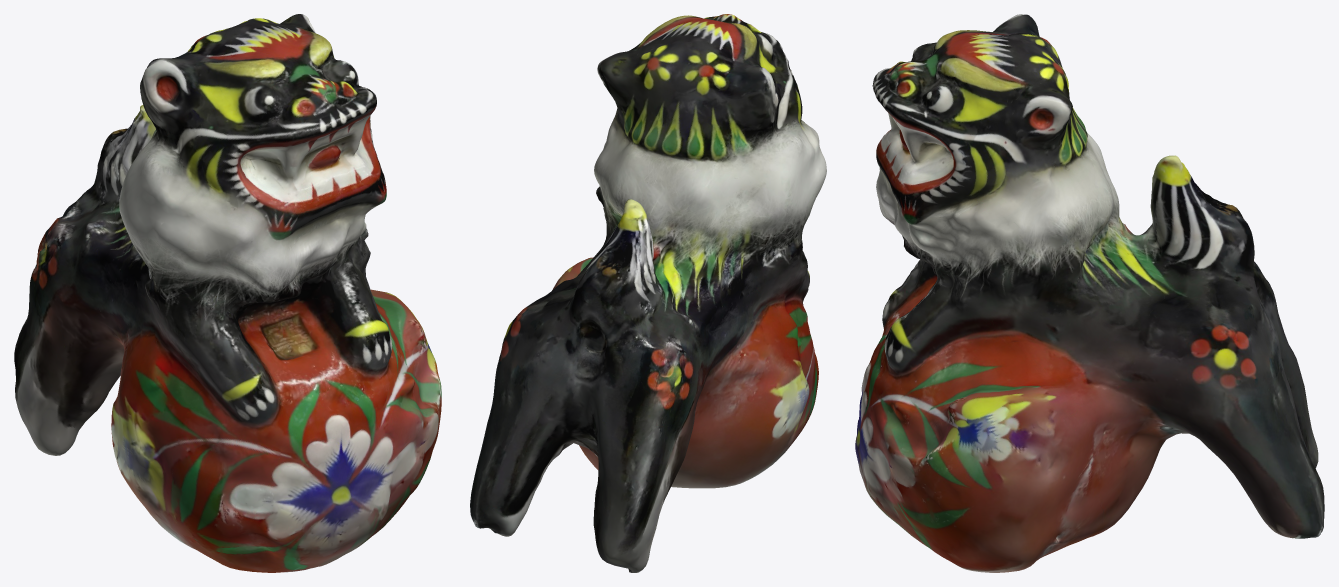
3 renders of one model, left to right at view 1: azimuth 30°, elevation 25°; view 2: azimuth 150°, elevation 25°; view 3: azimuth 270°, elevation 25°, orthographic. The views are drawn at different scales.
Size of the model in its own units: 0.4697 by 0.8047 by 0.6823.
1 material, 1 textured.
